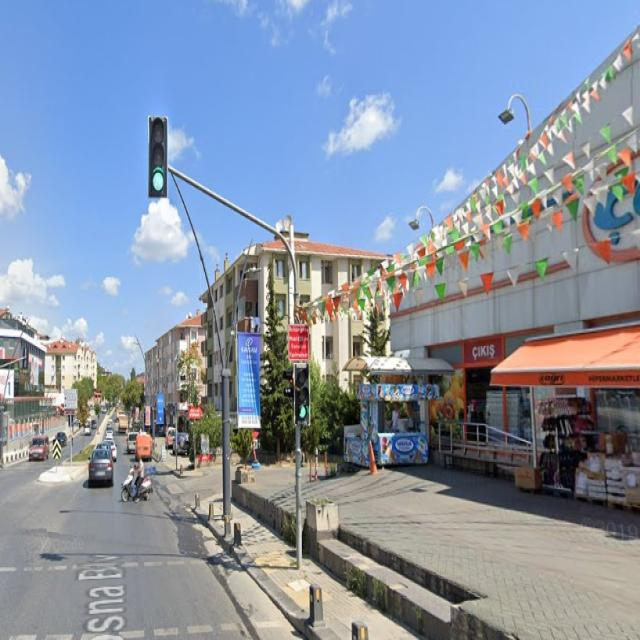yesil: (148, 117, 167, 199), (293, 363, 310, 424)
